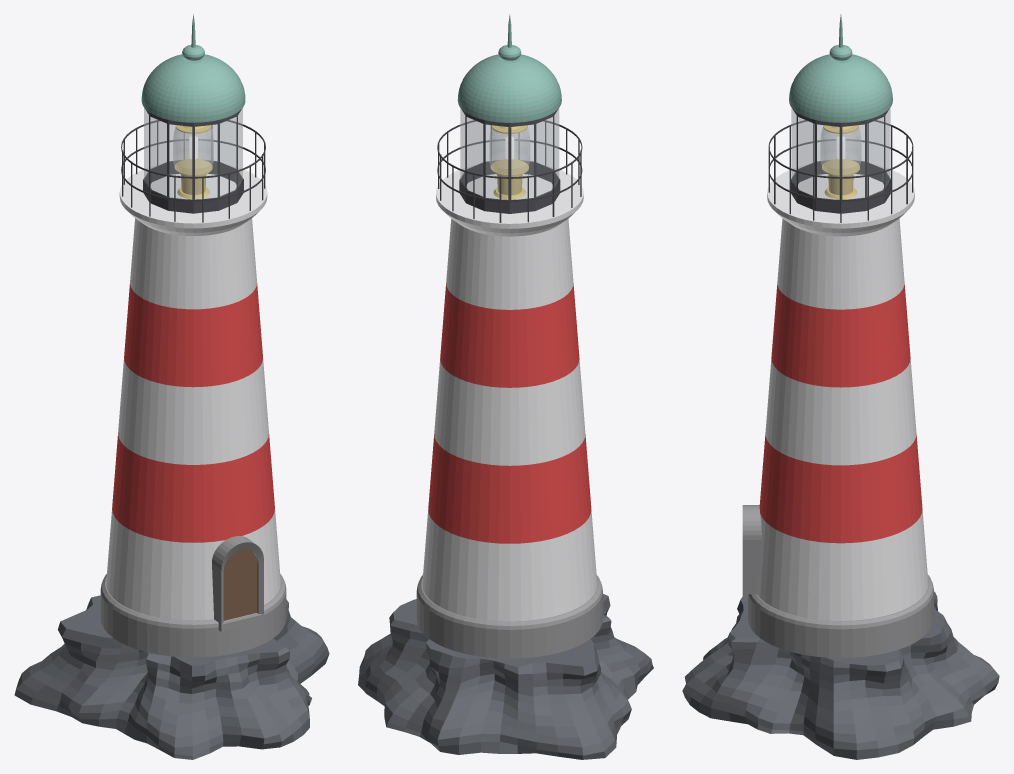
3 renders of one model, left to right at view 1: azimuth 30°, elevation 25°; view 2: azimuth 150°, elevation 25°; view 3: azimuth 270°, elevation 25°, orthographic.
Parts seen in each view (by area): view 1: TowerShaft, RockBase, LanternRoom, TowerPlinth, DomedCap, GalleryDeck, TowerDoorway, FresnelBeacon, GalleryRailing; view 2: TowerShaft, RockBase, LanternRoom, TowerPlinth, DomedCap, GalleryDeck, GalleryRailing, FresnelBeacon; view 3: TowerShaft, RockBase, LanternRoom, TowerPlinth, DomedCap, GalleryDeck, FresnelBeacon, GalleryRailing, TowerDoorway.
Part boxes in pixels (x1=…): TowerShaft: x1=106, y1=218, x2=280, y2=620; RockBase: x1=14, y1=595, x2=329, y2=759; LanternRoom: x1=143, y1=107, x2=243, y2=213; TowerPlinth: x1=100, y1=574, x2=286, y2=657; DomedCap: x1=141, y1=14, x2=245, y2=122; GalleryDeck: x1=119, y1=164, x2=267, y2=236; TowerDoorway: x1=212, y1=536, x2=263, y2=631; FresnelBeacon: x1=173, y1=125, x2=213, y2=199; GalleryRailing: x1=121, y1=120, x2=265, y2=222; TowerShaft: x1=422, y1=219, x2=597, y2=621; RockBase: x1=358, y1=594, x2=653, y2=759; LanternRoom: x1=459, y1=108, x2=560, y2=213; TowerPlinth: x1=416, y1=575, x2=602, y2=658; DomedCap: x1=457, y1=14, x2=561, y2=122; GalleryDeck: x1=436, y1=165, x2=583, y2=236; GalleryRailing: x1=437, y1=120, x2=582, y2=222; FresnelBeacon: x1=489, y1=125, x2=529, y2=199; TowerShaft: x1=757, y1=218, x2=928, y2=620; RockBase: x1=682, y1=591, x2=999, y2=759; LanternRoom: x1=791, y1=108, x2=890, y2=213; TowerPlinth: x1=748, y1=574, x2=933, y2=657; DomedCap: x1=789, y1=14, x2=892, y2=122; GalleryDeck: x1=767, y1=164, x2=914, y2=236; FresnelBeacon: x1=820, y1=125, x2=861, y2=199; GalleryRailing: x1=768, y1=120, x2=913, y2=222; TowerDoorway: x1=742, y1=505, x2=761, y2=601.
Bounding box in the file's own units: 5.8 × 13.7 × 5.8.
